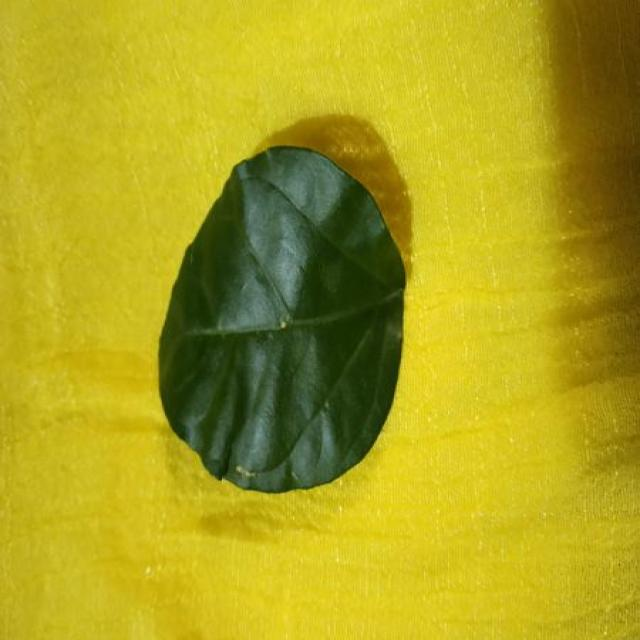Jasmine: (158, 146, 405, 492)
